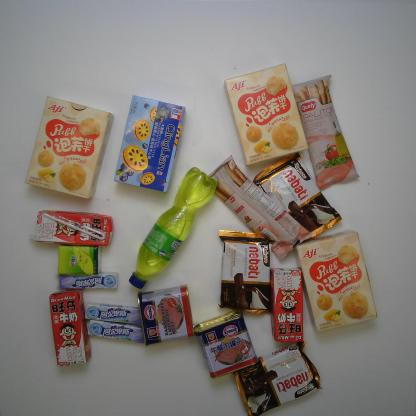Candy: (84, 301, 150, 326), (87, 318, 147, 345), (59, 270, 120, 292)
Canned Food: (193, 310, 258, 379), (137, 283, 194, 348)
Dessert: (200, 154, 314, 262), (23, 96, 114, 199), (252, 149, 343, 251), (223, 62, 309, 167), (292, 229, 378, 332), (286, 72, 360, 191), (112, 94, 186, 193), (230, 337, 324, 414), (218, 229, 274, 315)
Drink: (128, 167, 218, 290)
Milk: (48, 290, 93, 367), (268, 265, 306, 344), (33, 209, 114, 246)
Tissue: (57, 241, 101, 278)
